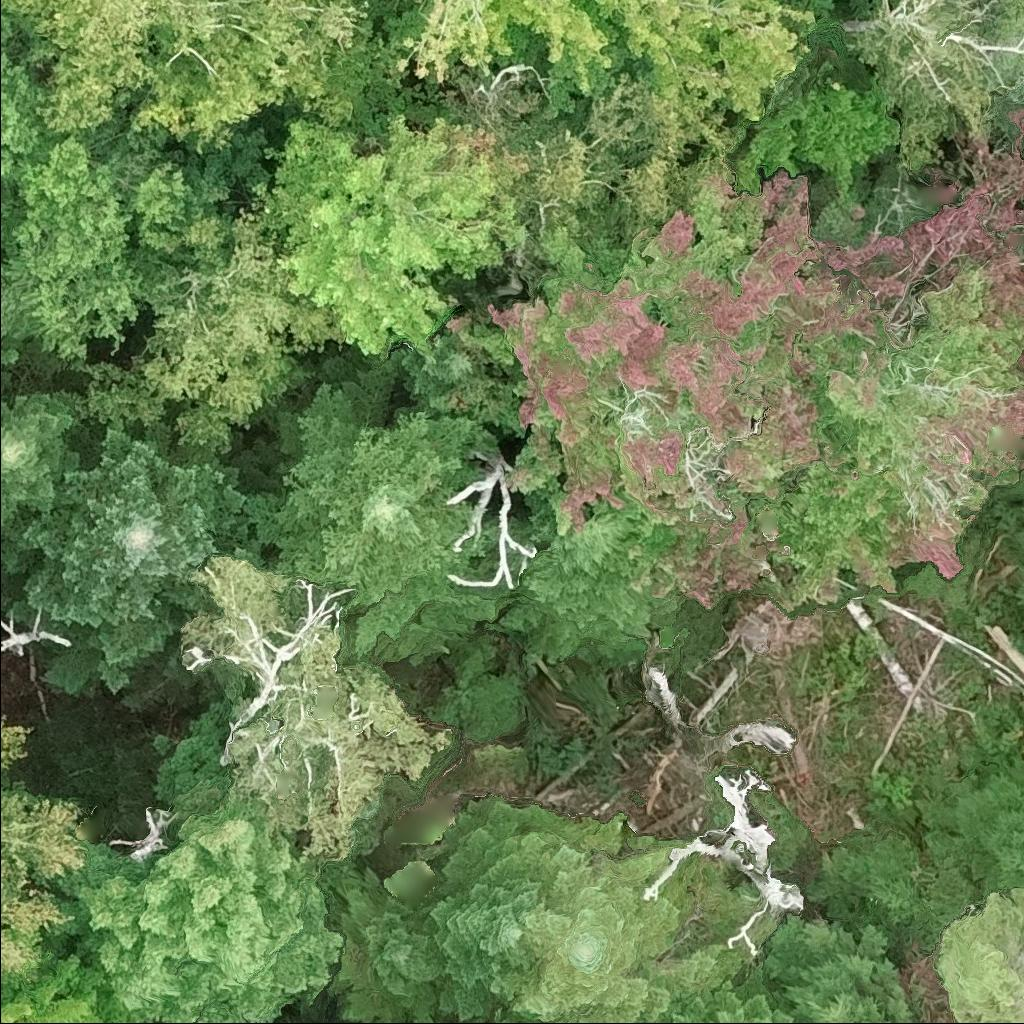crown: (448, 106, 1023, 610), (0, 5, 232, 371), (247, 349, 518, 660), (0, 415, 278, 693), (76, 174, 348, 456), (54, 778, 344, 1023), (438, 795, 744, 1023), (264, 111, 532, 363), (0, 0, 399, 151), (225, 622, 456, 870), (389, 0, 818, 122), (496, 497, 705, 662), (0, 713, 95, 983), (415, 874, 540, 1023), (326, 864, 442, 1023), (0, 384, 95, 578), (761, 911, 918, 1023), (913, 745, 1023, 897), (180, 550, 301, 657), (0, 942, 147, 1023), (394, 321, 510, 412), (655, 963, 795, 1023), (101, 798, 177, 864), (897, 936, 954, 1023), (0, 606, 73, 657), (1006, 505, 1023, 605), (462, 1004, 523, 1023), (434, 1010, 460, 1023), (402, 1014, 414, 1023), (376, 1021, 388, 1023), (0, 383, 3, 391)
